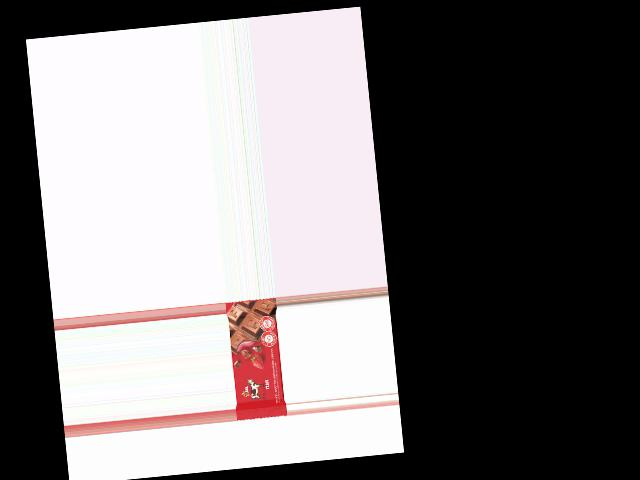chocolate: (226, 298, 287, 421)
